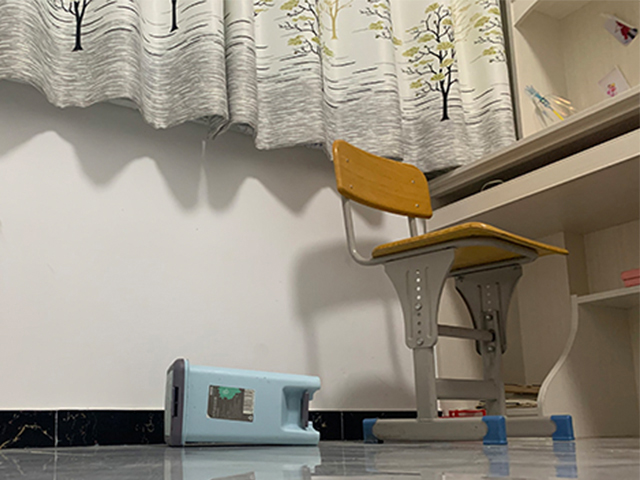stool: (332, 139, 574, 446)
table: (421, 85, 640, 438)
trashcan: (162, 358, 322, 447)
